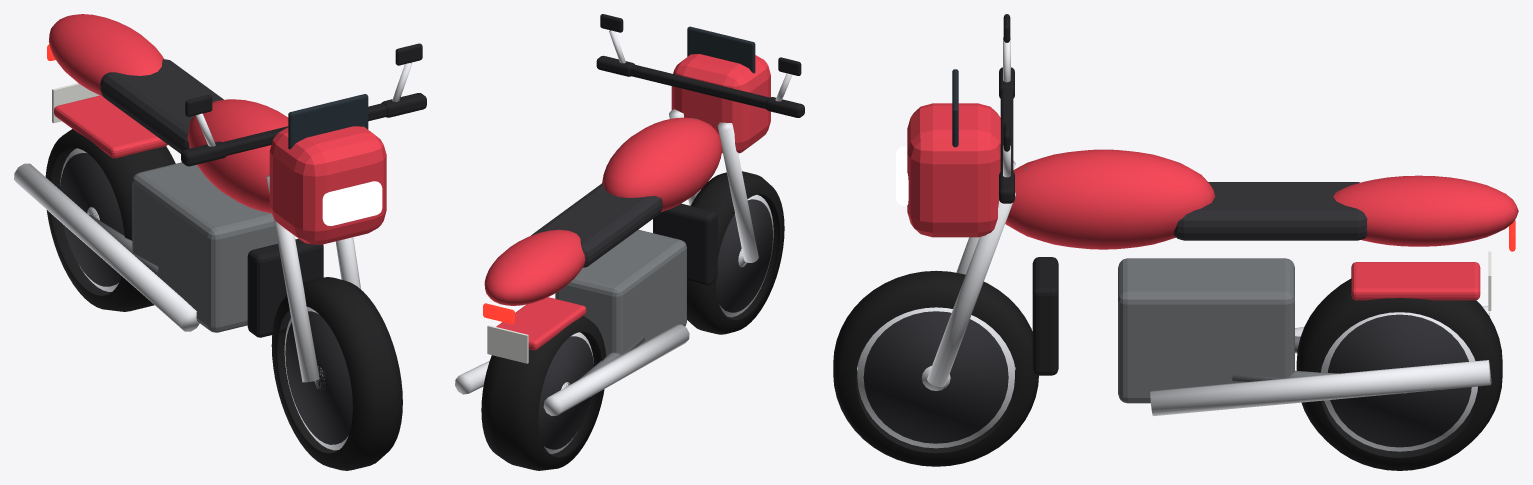
Rendered from viper.glb.
3 views of the same model, side by side, from view 1: azimuth 30°, elevation 25°; view 2: azimuth 150°, elevation 25°; view 3: azimuth 270°, elevation 25° (orthographic). The views are drawn at different scales.
Parts seen in each view (by area): view 1: engine, tire, fairing, tire.001, tank, tail, exh.001, rimhole, seat, rimhole.001, radiator, rfender (+11 smaller); view 2: engine, tire.001, tank, tire, fairing, tail, seat, rimhole, rimhole.001, exh.001, radiator, rfender (+9 smaller); view 3: engine, tank, tire, rimhole, tire.001, fairing, rimhole.001, tail, seat, exh, rfender, leg (+5 smaller).
Boxes of the visible parts, x1,y1,x2,y2 form: engine: (132, 162, 277, 332); tire: (271, 277, 402, 470); fairing: (269, 126, 386, 244); tire.001: (45, 129, 175, 311); tank: (187, 99, 288, 213); tail: (49, 14, 163, 96); exh.001: (14, 163, 199, 331); rimhole: (285, 311, 352, 444); seat: (100, 59, 223, 153); rimhole.001: (60, 153, 124, 286); radiator: (247, 238, 323, 337); rfender: (54, 95, 167, 158); engine: (555, 229, 686, 355); tire.001: (481, 316, 606, 470); tank: (602, 117, 722, 211); tire: (687, 171, 784, 334); fairing: (671, 54, 770, 153); tail: (484, 229, 585, 305); seat: (531, 183, 662, 267); rimhole: (716, 199, 772, 312); rimhole.001: (538, 336, 593, 449); exh.001: (543, 324, 689, 415); radiator: (653, 203, 717, 285); rfender: (496, 297, 586, 350); engine: (1118, 258, 1294, 403); tank: (1005, 149, 1215, 249); tire: (833, 270, 1038, 466); rimhole: (863, 311, 1008, 443); tire.001: (1296, 278, 1502, 470); fairing: (907, 103, 1000, 237); rimhole.001: (1328, 314, 1471, 447); tail: (1333, 175, 1518, 246); seat: (1173, 182, 1367, 240); exh: (1150, 360, 1491, 416); rfender: (1351, 262, 1480, 300); leg: (927, 192, 1015, 387).
Size of what is drawn, in the model's own units: 0.92 by 1.33 by 2.13.
